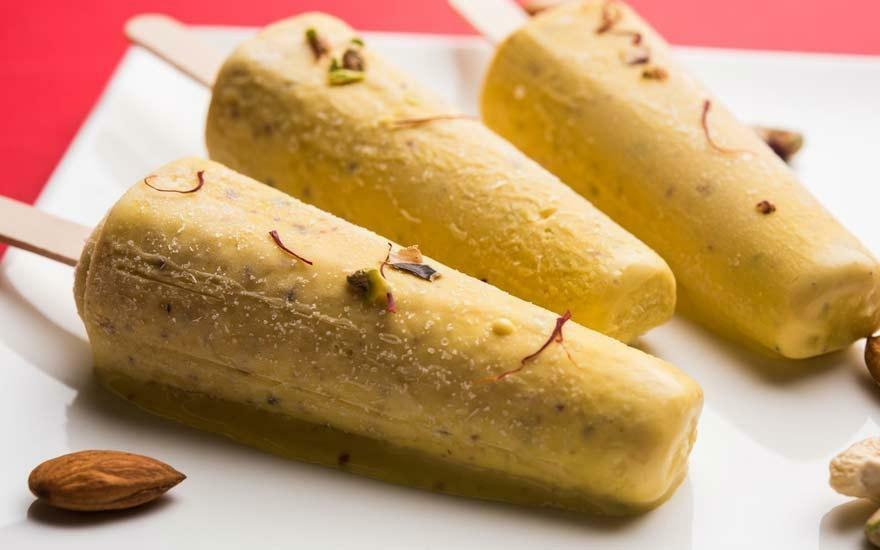Kulfi: (80, 151, 707, 509), (207, 7, 680, 348), (475, 0, 880, 368)
